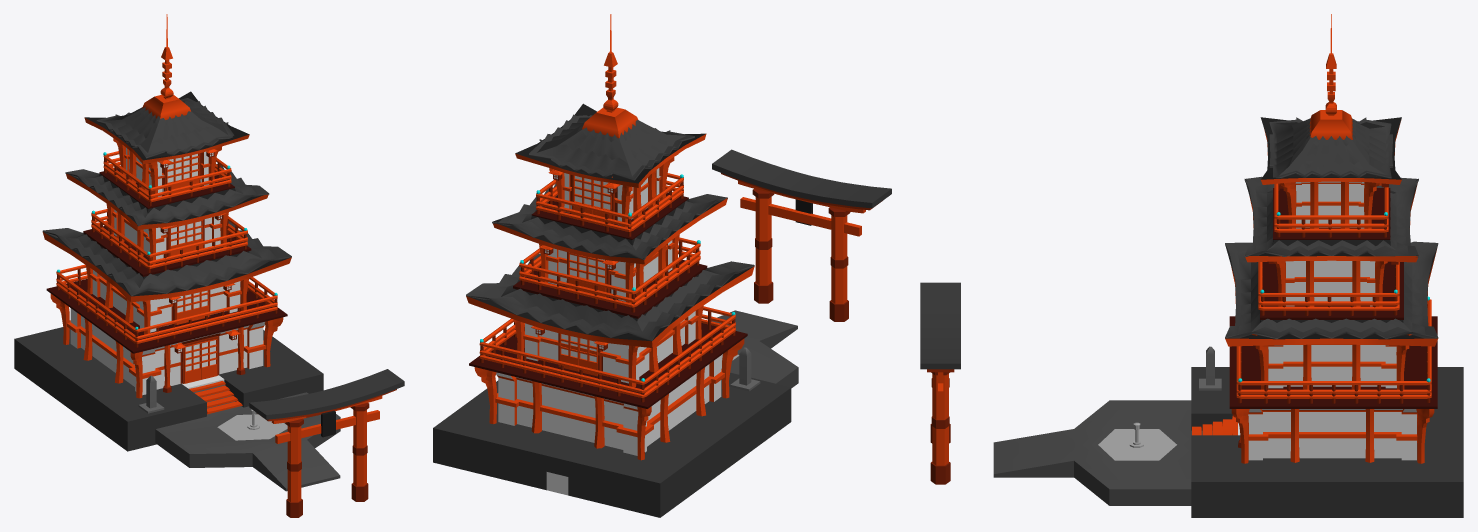
The model's file is templo_2.fbx.
3 renders of one model, left to right at view 1: azimuth 30°, elevation 25°; view 2: azimuth 150°, elevation 25°; view 3: azimuth 270°, elevation 25°, orthographic. The views are drawn at different scales.
Parts seen in each view (by area): view 1: pCube5, pasted__polySurface718, polySurface411, pasted__polySurface327, polySurface713, polySurface473, coluna_detalhe24, polySurface689, pasted__polySurface584, polySurface711, pasted__polySurface638, pasted__polySurface712 (+18 smaller); view 2: pCube5, pasted__polySurface327, polySurface411, polySurface473, coluna_detalhe24, polySurface713, polySurface689, pasted__polySurface584, polySurface711, pasted__polySurface718, pasted__polySurface638, pasted__polySurface712 (+17 smaller); view 3: pCube5, pasted__polySurface718, polySurface473, polySurface411, polySurface713, coluna_detalhe24, polySurface689, pasted__polySurface327, pasted__polySurface584, polySurface711, pasted__polySurface638, polySurface589 (+10 smaller).
Part boxes in pixels (x1,y1,x2,y2): pCube5: (14,327,323,451); pasted__polySurface718: (155,384,340,491); polySurface411: (56,151,277,343); pasted__polySurface327: (249,369,404,517); polySurface713: (42,221,291,296); polySurface473: (67,308,266,395); coluna_detalhe24: (50,138,283,398); polySurface689: (96,98,234,158); pasted__polySurface584: (46,279,287,353); polySurface711: (65,163,269,226); pasted__polySurface638: (89,270,241,332); pasted__polySurface712: (42,232,291,302); pCube5: (433,372,791,517); pasted__polySurface327: (712,149,891,321); polySurface411: (479,173,735,397); polySurface473: (495,355,724,455); coluna_detalhe24: (474,154,744,460); polySurface713: (466,253,754,341); polySurface689: (529,114,694,180); pasted__polySurface584: (469,323,747,408); polySurface711: (492,183,727,259); pasted__polySurface718: (711,310,798,388); pasted__polySurface638: (523,311,699,383); pasted__polySurface712: (466,266,754,347); pCube5: (1191,367,1463,517); pasted__polySurface718: (993,400,1212,505); polySurface473: (1248,409,1417,460); polySurface411: (1236,183,1431,398); polySurface713: (1225,241,1438,339); coluna_detalhe24: (1231,182,1434,463); polySurface689: (1269,117,1392,178); pasted__polySurface327: (920,282,960,484); pasted__polySurface584: (1229,316,1437,408); polySurface711: (1244,176,1418,257); pasted__polySurface638: (1268,344,1396,388); polySurface589: (1285,260,1375,306).
Size of the model in its own units: 12 by 21.82 by 23.94.
